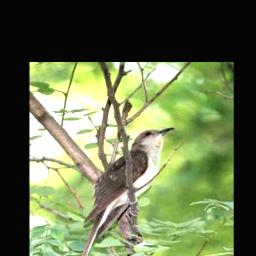Cuckoo: (70, 127, 174, 256)
